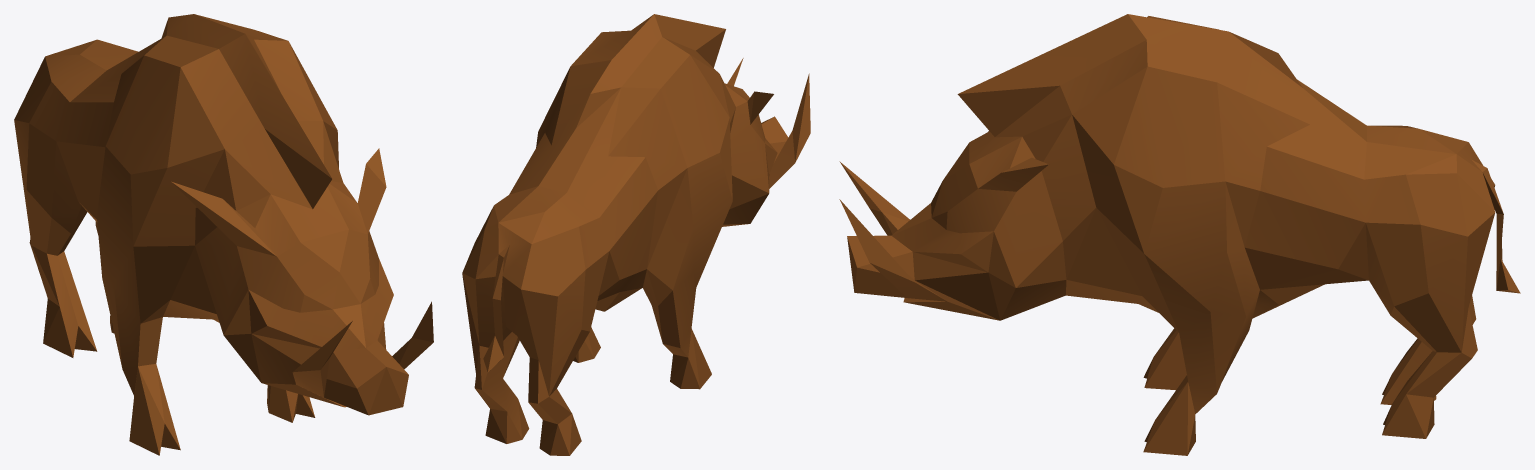
The model's file is Hog.fbx.
3 renders of one model, left to right at view 1: azimuth 30°, elevation 25°; view 2: azimuth 150°, elevation 25°; view 3: azimuth 270°, elevation 25°, orthographic. The views are drawn at different scales.
Parts seen in each view (by area): view 1: Boar; view 2: Boar; view 3: Boar.
Boxes of the visible parts, box(x1,y1,x2,y2) form: Boar: box(14, 14, 433, 455); Boar: box(462, 14, 810, 455); Boar: box(839, 14, 1520, 455).
Bounding box in the file's own units: 56.08 × 103 × 159.
